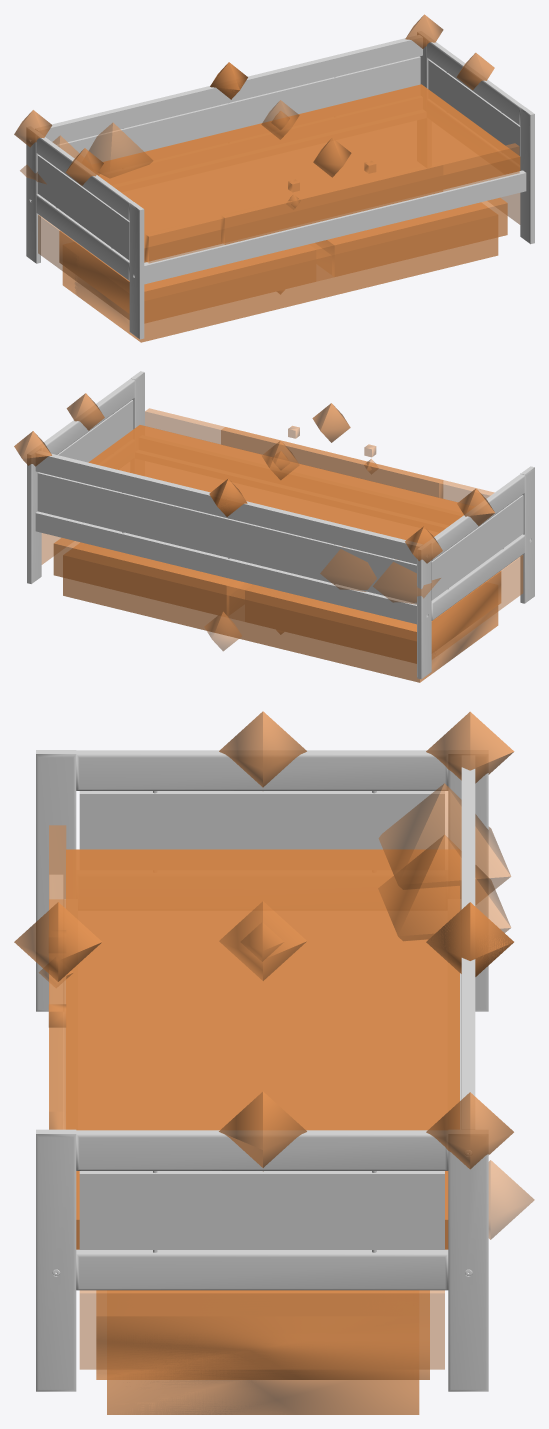
The picture shows the model from 3 angles, top to bottom: view 1: azimuth 30°, elevation 25°; view 2: azimuth 150°, elevation 25°; view 3: azimuth 270°, elevation 25°; orthographic projection. The views are drawn at different scales.
Parts seen in each view (by area): view 1: wood, _asshe_01, _afmat_, _asund_0, _affront_0, _asfront_0, _as7055_1, _asduvet_0, _afduvet_0, _as7055_0, _as7052_0, _ascush_01 (+16 smaller); view 2: wood, _asshe_01, _afmat_, _asund_0, _as7055_1, _afduvet_0, _asduvet_0, _as7055_0, _affront_0, _asfront_0, _as7052_0, _ascush_01 (+16 smaller); view 3: wood, _asshe_01, _afmat_, _as7052_, _asund_0, _as7055_0, _asduvet_0, _afduvet_0, _ascush_0, _ascush_01, _asfront_0, _afacc_03 (+17 smaller).
Part boxes in pixels (bbox=[...]): wood: bbox=[26, 31, 534, 339]; _asshe_01: bbox=[97, 84, 520, 261]; _afmat_: bbox=[99, 85, 520, 262]; _asund_0: bbox=[59, 198, 507, 322]; _affront_0: bbox=[221, 143, 519, 244]; _asfront_0: bbox=[144, 162, 443, 263]; _as7055_1: bbox=[60, 232, 316, 323]; _asduvet_0: bbox=[63, 237, 498, 342]; _afduvet_0: bbox=[62, 238, 497, 342]; _as7055_0: bbox=[316, 198, 507, 276]; _as7052_0: bbox=[38, 215, 129, 319]; _ascush_01: bbox=[89, 122, 153, 178]; wood: bbox=[27, 371, 534, 679]; _asshe_01: bbox=[88, 425, 463, 539]; _afmat_: bbox=[89, 425, 463, 539]; _asund_0: bbox=[53, 538, 500, 663]; _as7055_1: bbox=[245, 573, 499, 663]; _afduvet_0: bbox=[63, 577, 497, 682]; _asduvet_0: bbox=[63, 578, 498, 682]; _as7055_0: bbox=[53, 538, 245, 616]; _affront_0: bbox=[145, 408, 442, 498]; _asfront_0: bbox=[221, 427, 494, 502]; _as7052_0: bbox=[431, 555, 523, 659]; _ascush_01: bbox=[320, 546, 376, 591]; wood: bbox=[36, 750, 488, 1391]; _asshe_01: bbox=[66, 849, 459, 1249]; _afmat_: bbox=[66, 850, 459, 1249]; _as7052_: bbox=[79, 1290, 444, 1369]; _asund_0: bbox=[96, 1290, 429, 1379]; _as7055_0: bbox=[96, 1290, 429, 1379]; _asduvet_0: bbox=[107, 1380, 419, 1414]; _afduvet_0: bbox=[107, 1380, 418, 1414]; _ascush_0: bbox=[378, 783, 510, 910]; _ascush_01: bbox=[378, 834, 510, 940]; _asfront_0: bbox=[49, 825, 66, 1129]; _afacc_03: bbox=[14, 902, 101, 981].
Size of the model in its own units: 2.24 by 0.9684 by 1.18.
